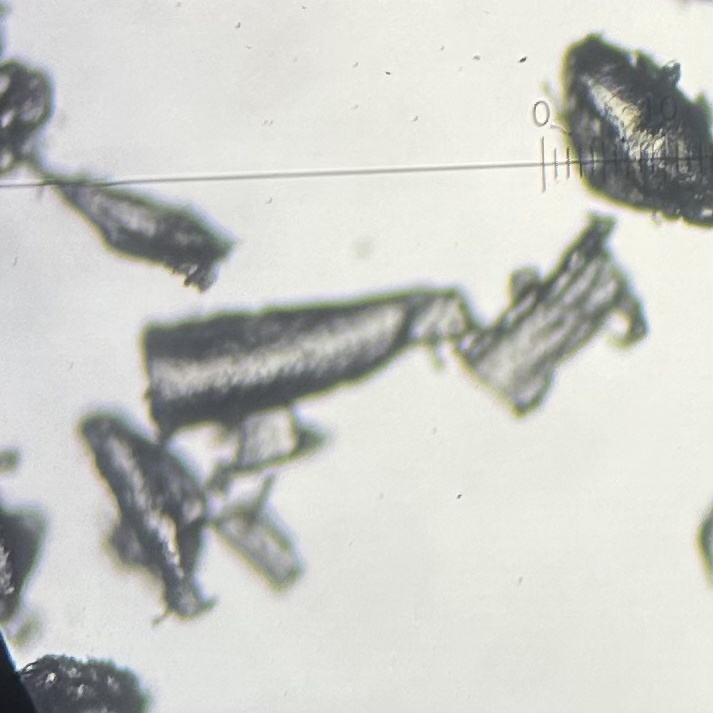microplastic: (139, 287, 471, 445), (455, 216, 647, 426), (71, 407, 221, 627), (555, 31, 713, 233), (32, 164, 248, 297), (204, 401, 321, 501), (213, 496, 315, 602), (12, 649, 153, 713), (1, 59, 60, 180), (1, 507, 47, 624), (695, 496, 713, 594), (1, 445, 26, 478)
